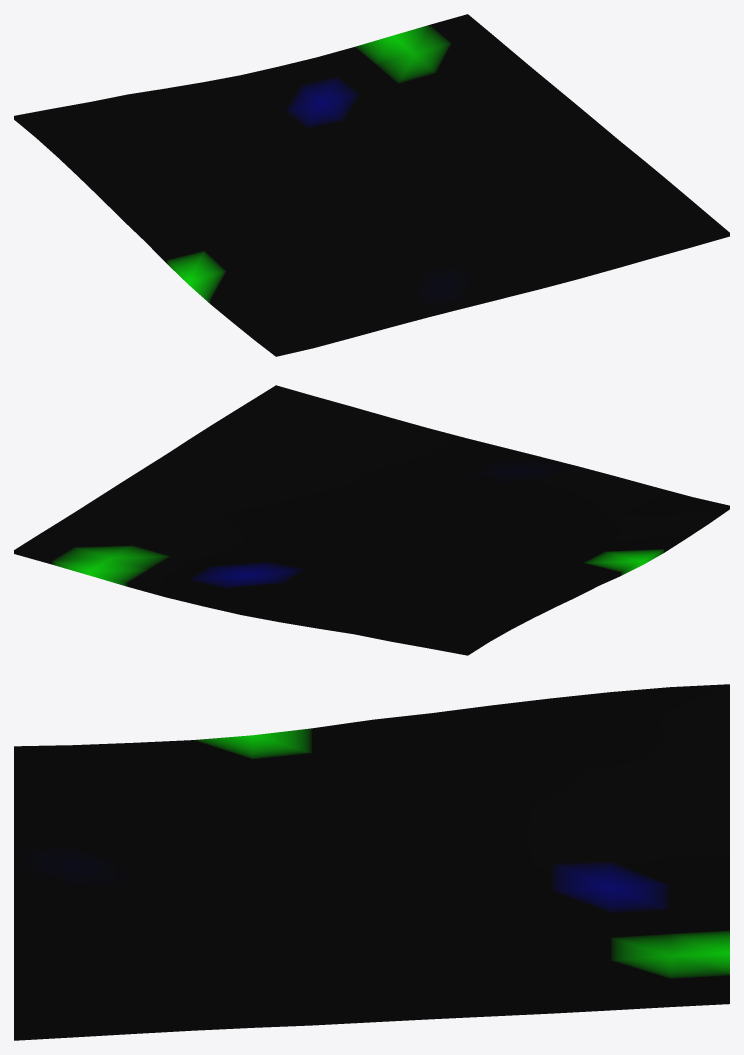
File: coast_21_4.glb
3 views of the same model, one above another, from view 1: azimuth 30°, elevation 25°; view 2: azimuth 150°, elevation 25°; view 3: azimuth 270°, elevation 25° (orthographic). The views are drawn at different scales.
Visible parts, largest first — view 1: terrain; view 2: terrain; view 3: terrain.
Part boxes in pixels (bbox=[...]): terrain: bbox=[14, 14, 729, 356]; terrain: bbox=[14, 385, 729, 655]; terrain: bbox=[14, 684, 729, 1040].
Size of the model in its own units: 192 by 20.08 by 192.
